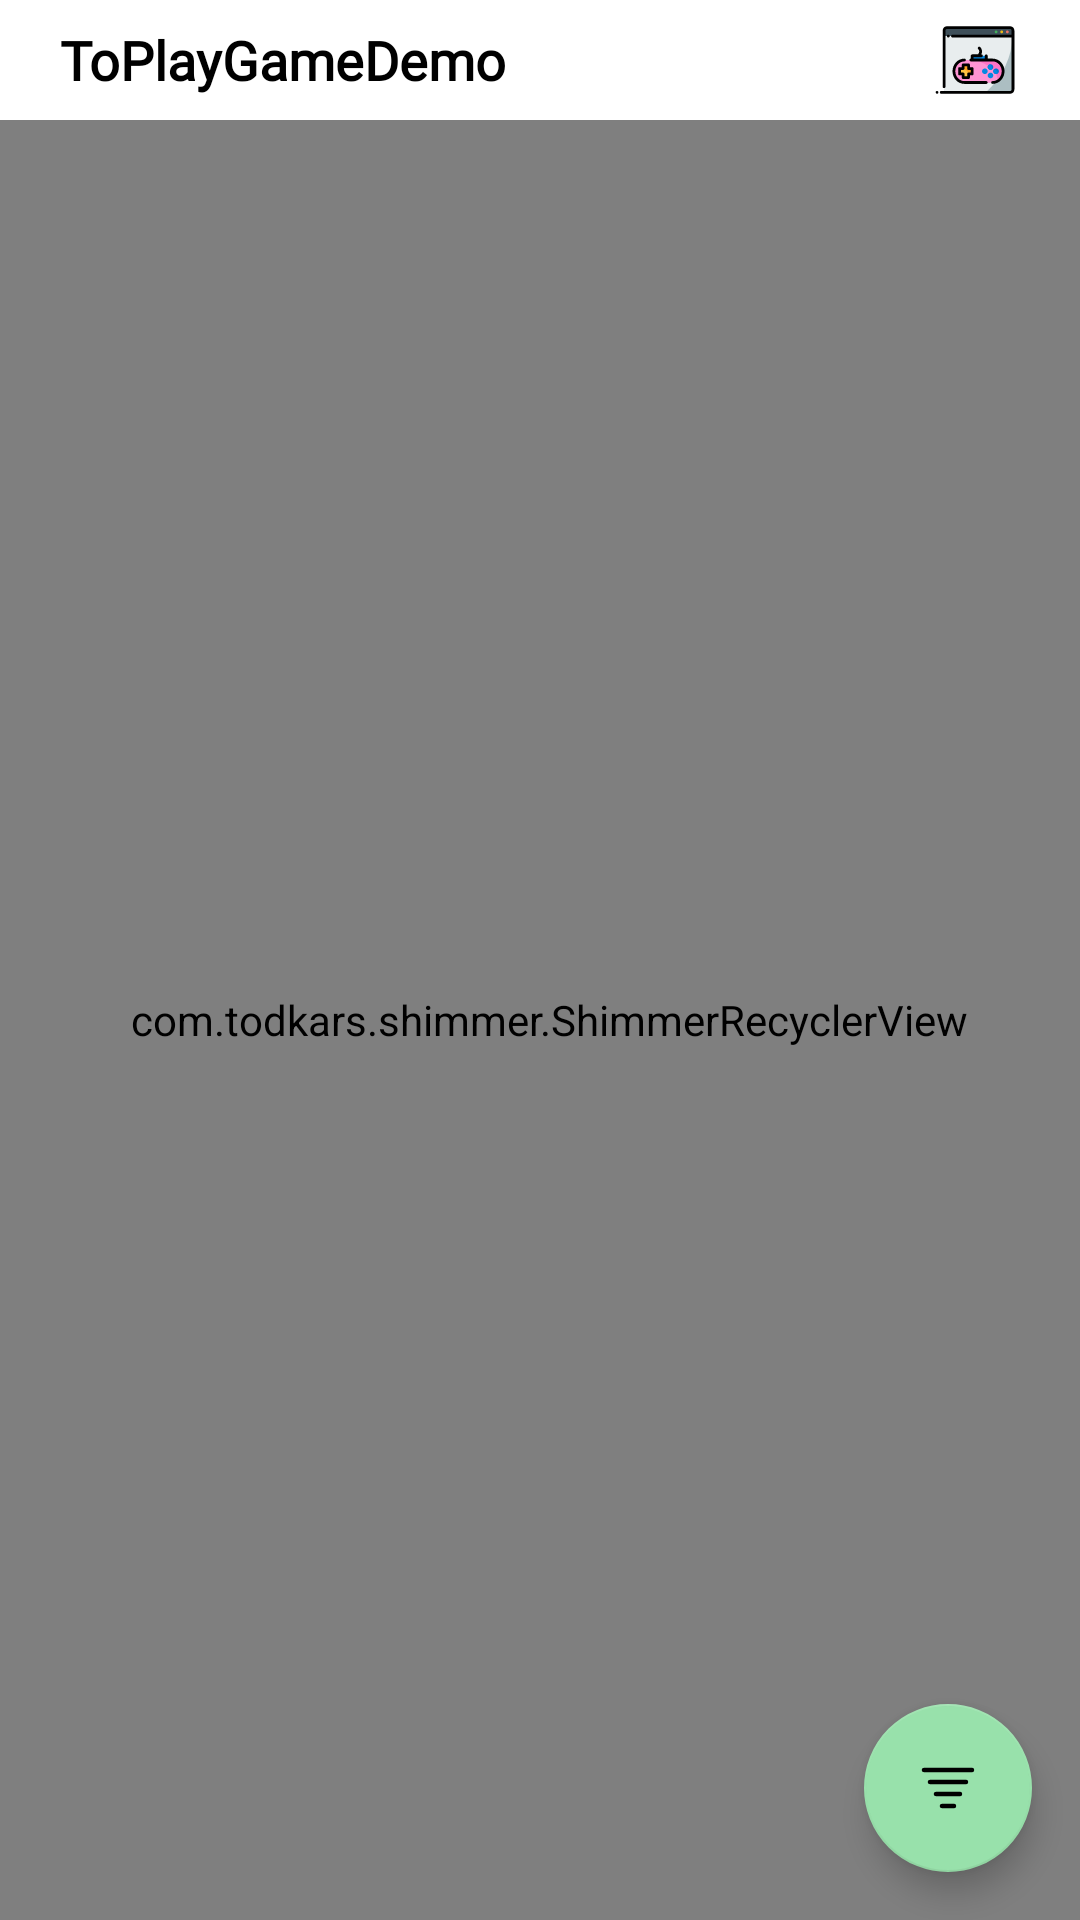

Point at icon controls on the screen. Image size 1080px×1920px, points as [x,y].
filter: [948,1788]
